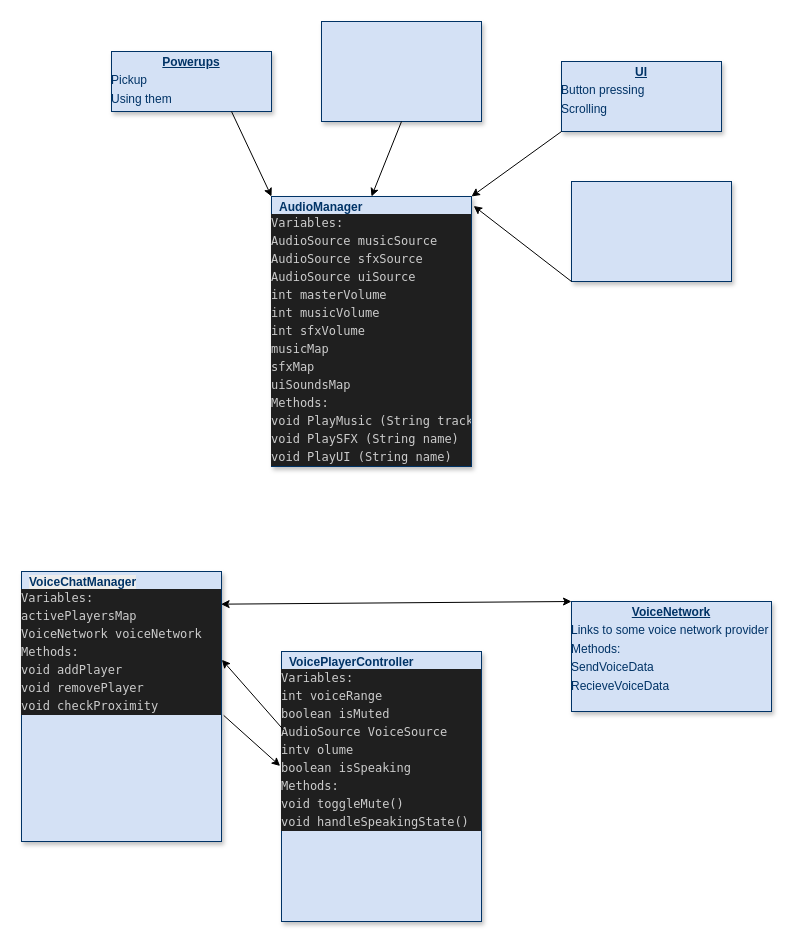
This 795x946 diagram has some shape labels left out. The centre of each missing label's shape, as x and y in pixels:
Carts Collisions Drifting Engine Sounds Abilites: (402,72)
Map Audio of NPCs ambient audio: (652,232)
